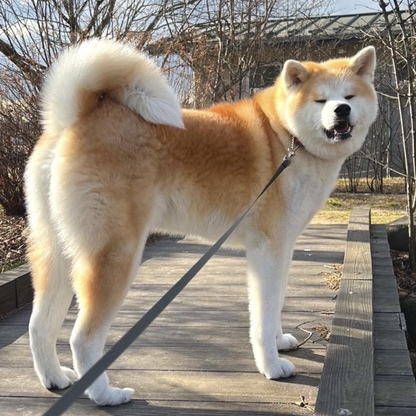akita: (15, 27, 383, 409)
